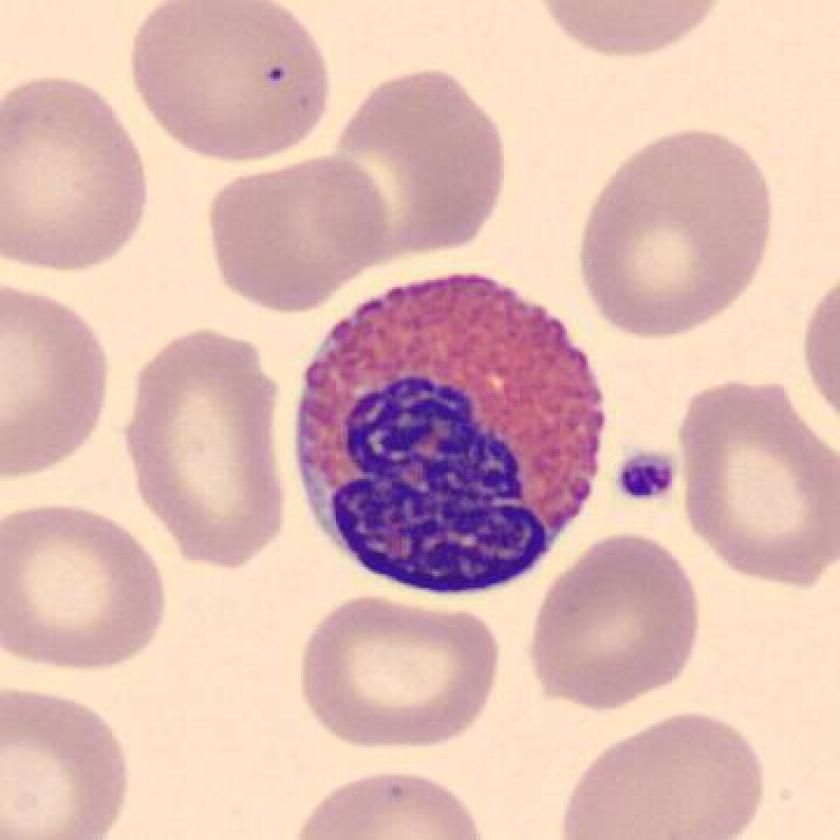eosinophil: (283, 260, 617, 603)
